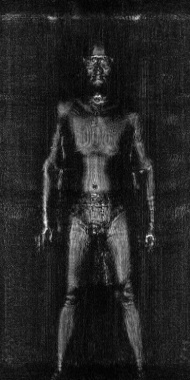gun: (99, 246, 115, 287)
